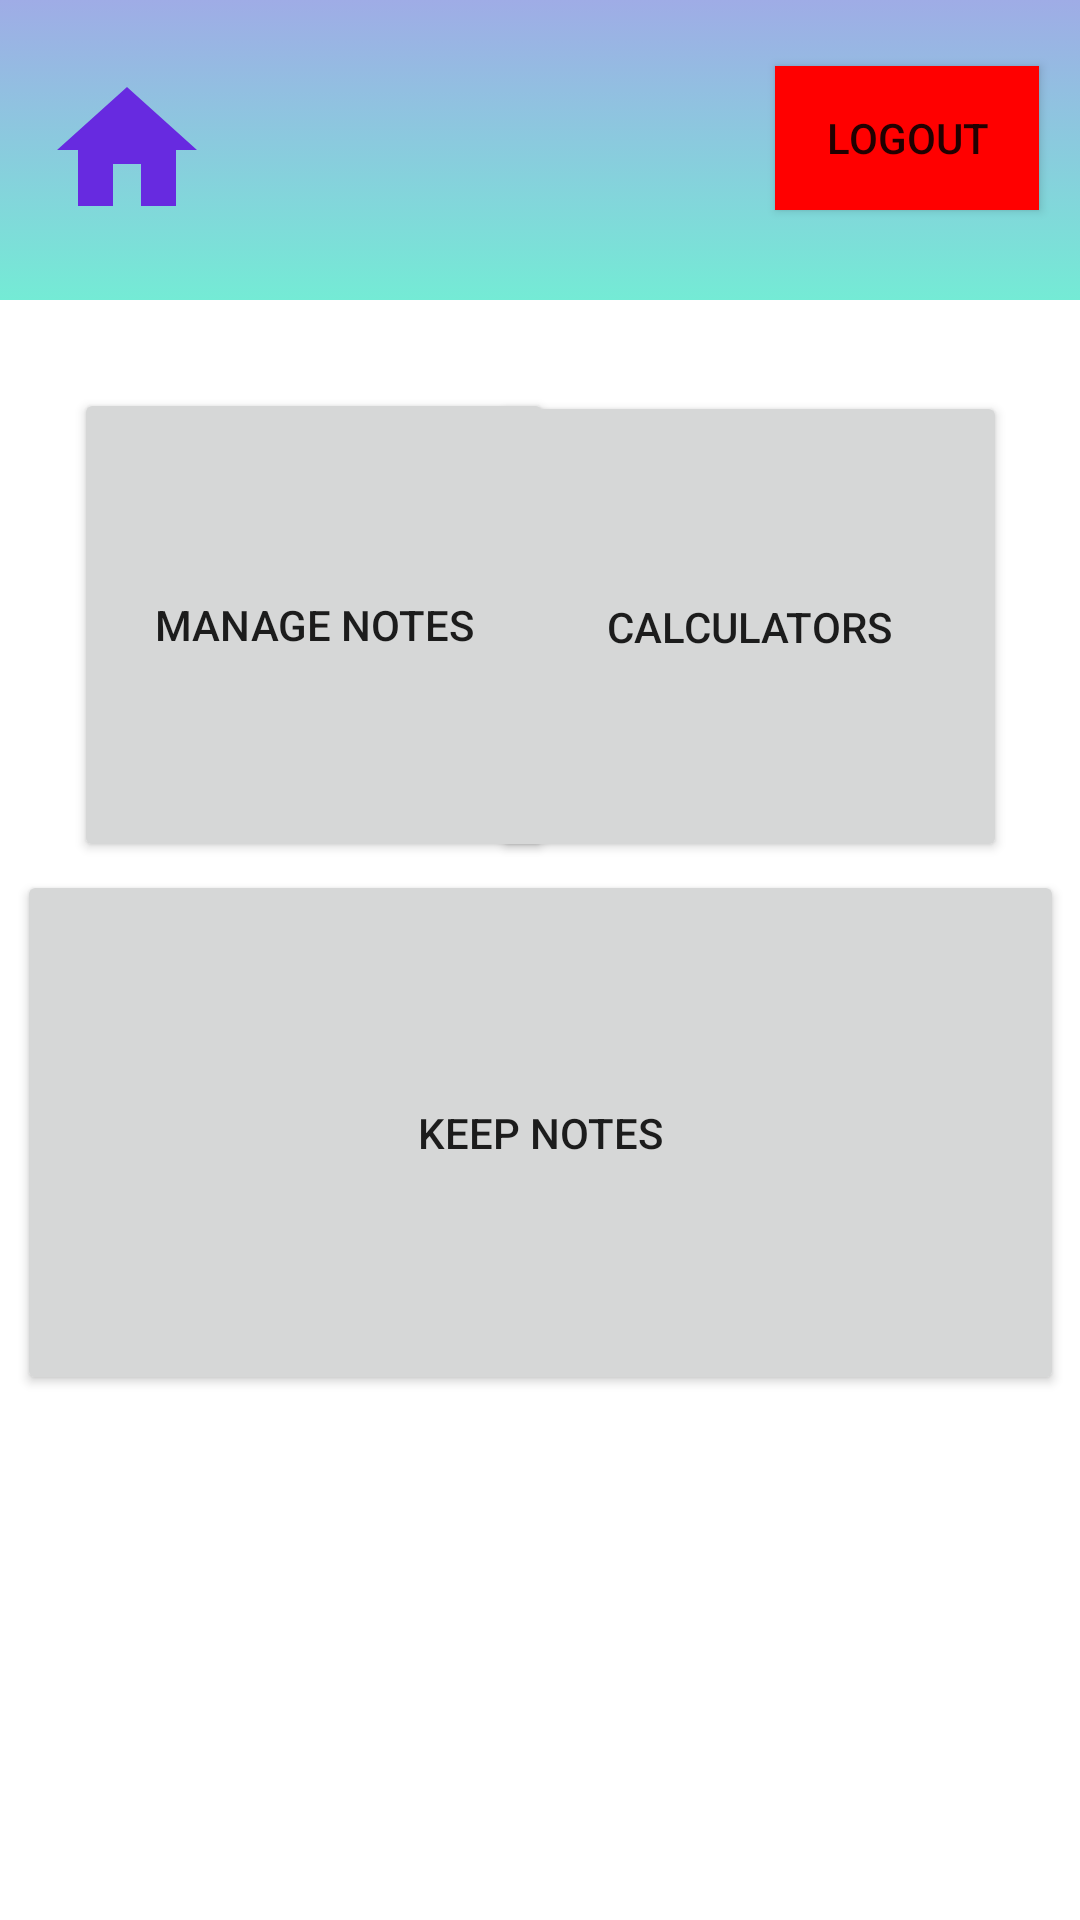

Point at icon controls on the screen. Image size 1080x1920, points as [x,y].
home: [126,150]
